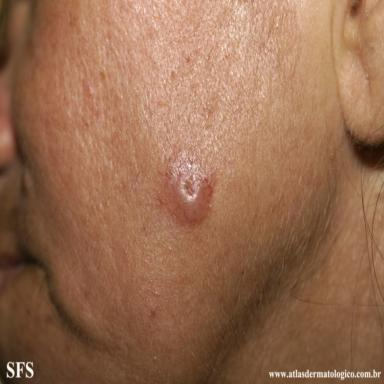basal-cell-carcinoma: (170, 159, 210, 225)
